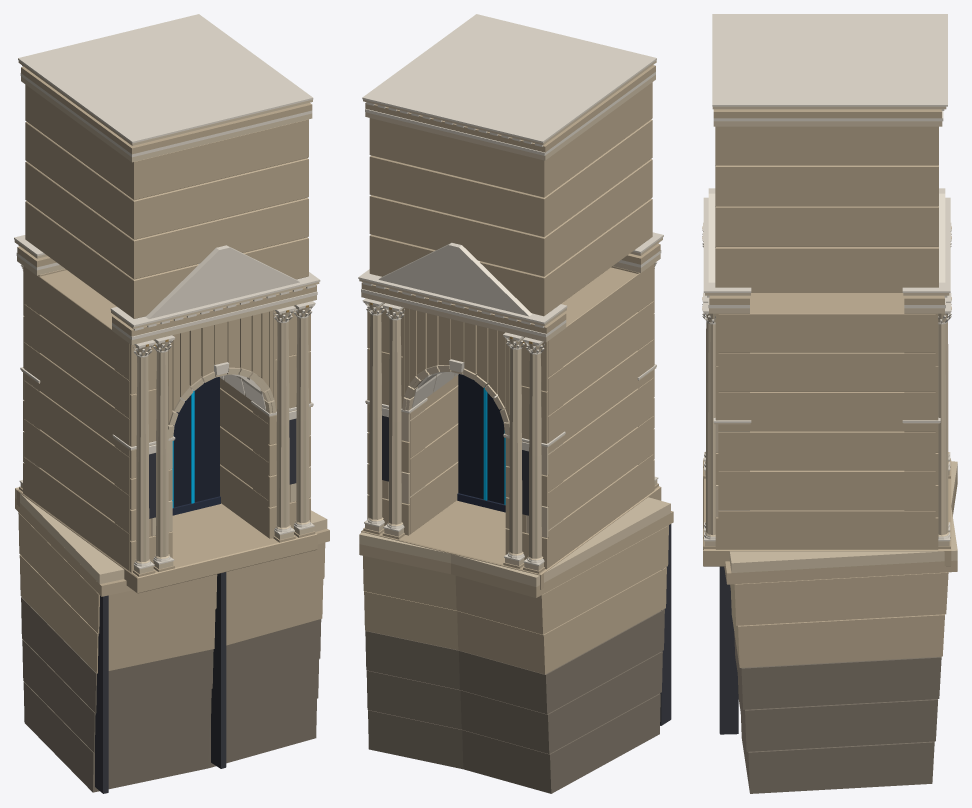
File: UMOD_04_Cardinal_Triumphal_Gate_Pavilion.fbx
3 renders of one model, left to right at view 1: azimuth 30°, elevation 25°; view 2: azimuth 150°, elevation 25°; view 3: azimuth 270°, elevation 25°, orthographic. The views are drawn at different scales.
Parts seen in each view (by area): view 1: UMOD_04_Cardinal_Triumphal_Gate_Pavilion; view 2: UMOD_04_Cardinal_Triumphal_Gate_Pavilion; view 3: UMOD_04_Cardinal_Triumphal_Gate_Pavilion.
Part boxes in pixels (left/top/right/bottom): UMOD_04_Cardinal_Triumphal_Gate_Pavilion: left=14, top=14, right=329, bottom=793; UMOD_04_Cardinal_Triumphal_Gate_Pavilion: left=358, top=14, right=673, bottom=793; UMOD_04_Cardinal_Triumphal_Gate_Pavilion: left=702, top=14, right=957, bottom=793.
Size of the model in its own units: 34.98 by 96.44 by 32.93.
